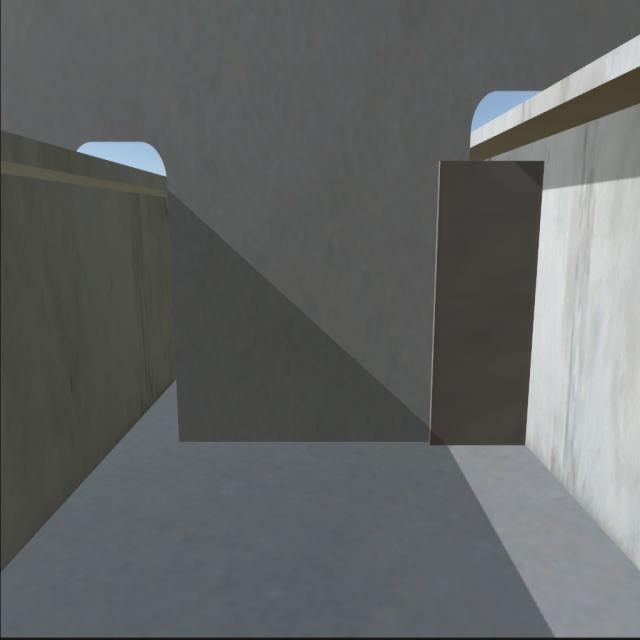fillet_yong_jeop_jang: (176, 441, 526, 447)
longi_yong_jeop_jang: (524, 163, 546, 439)
plate_CP01: (438, 163, 544, 440)
